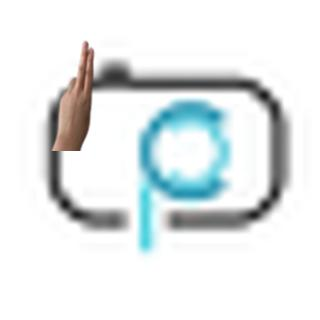DHAVE: (52, 36, 99, 147)
